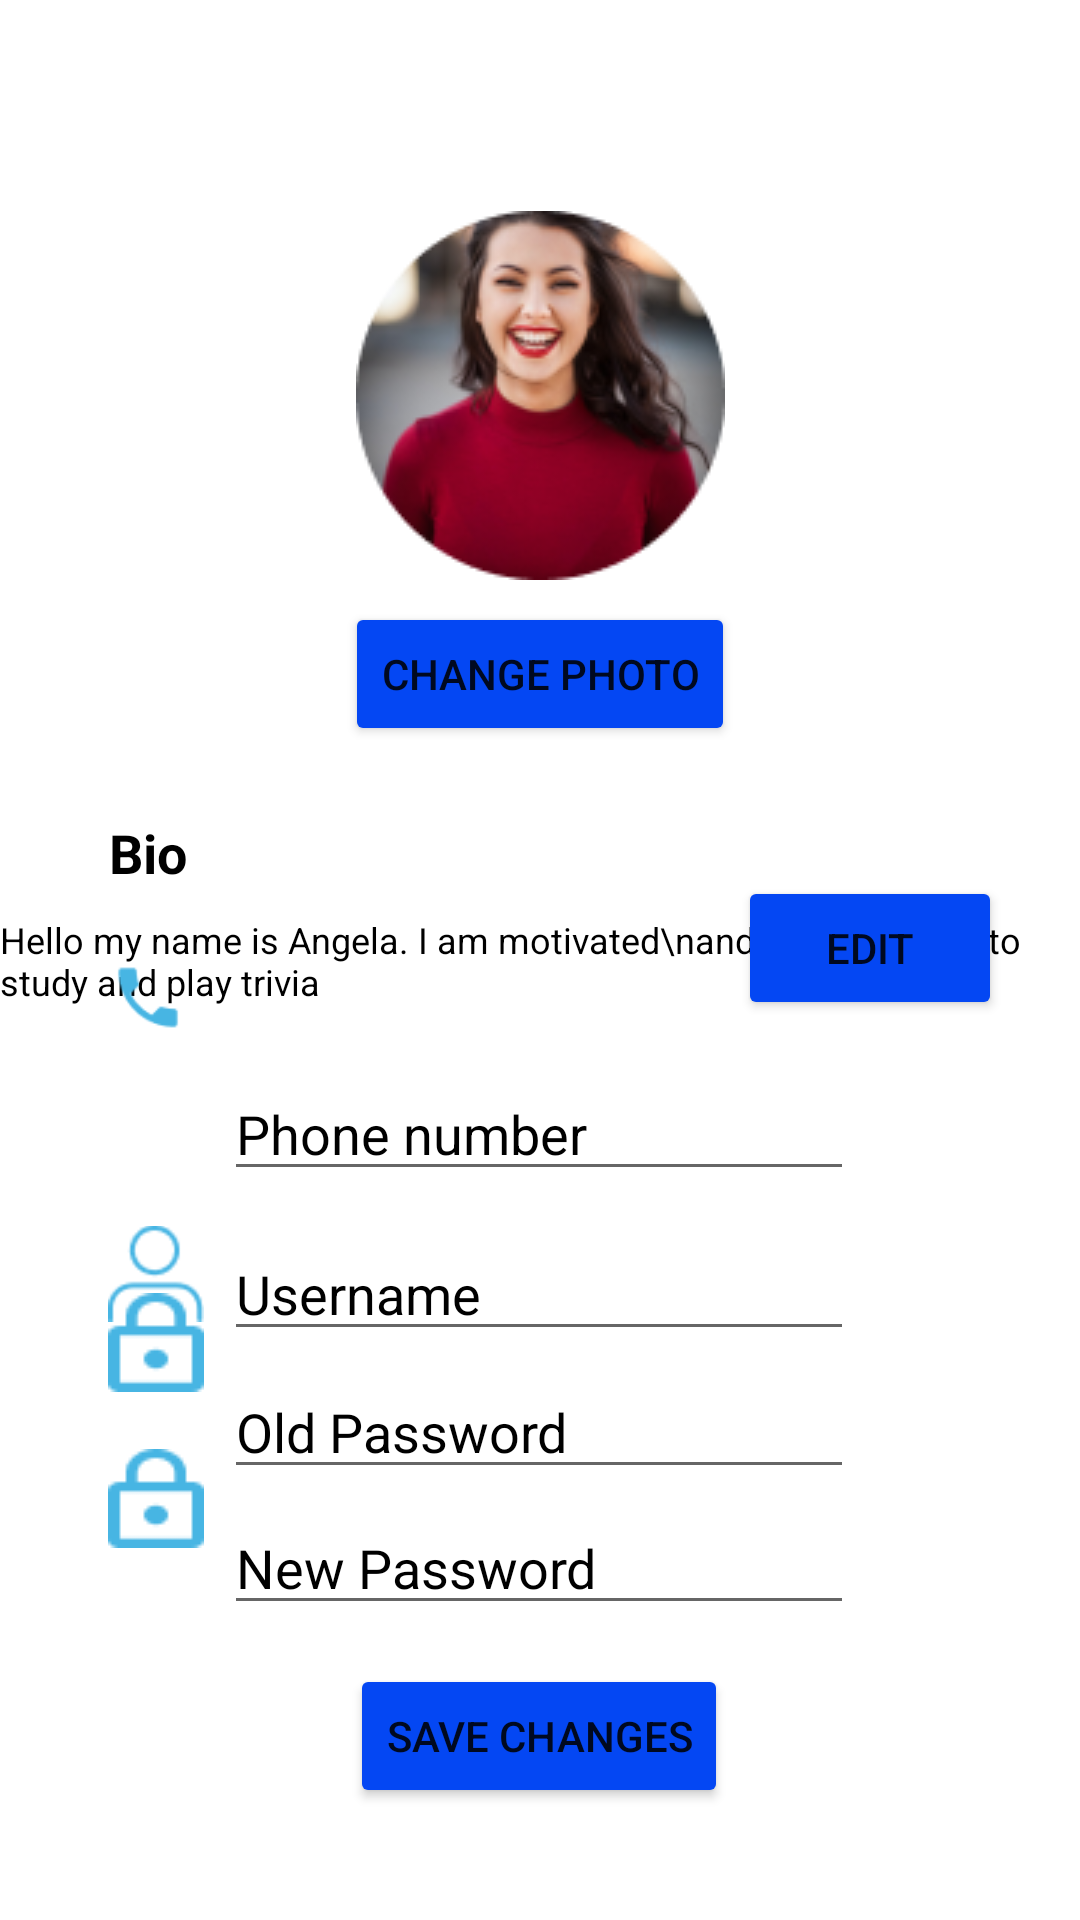

Icons on this 1080px×1920px Android screen, each with its box as (x1, y1, x2, y2):
lock: (108, 1293, 204, 1392), (108, 1449, 204, 1548)
